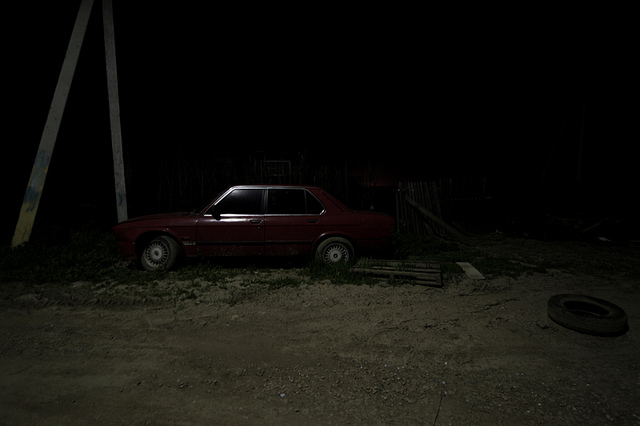car: (103, 178, 405, 277)
